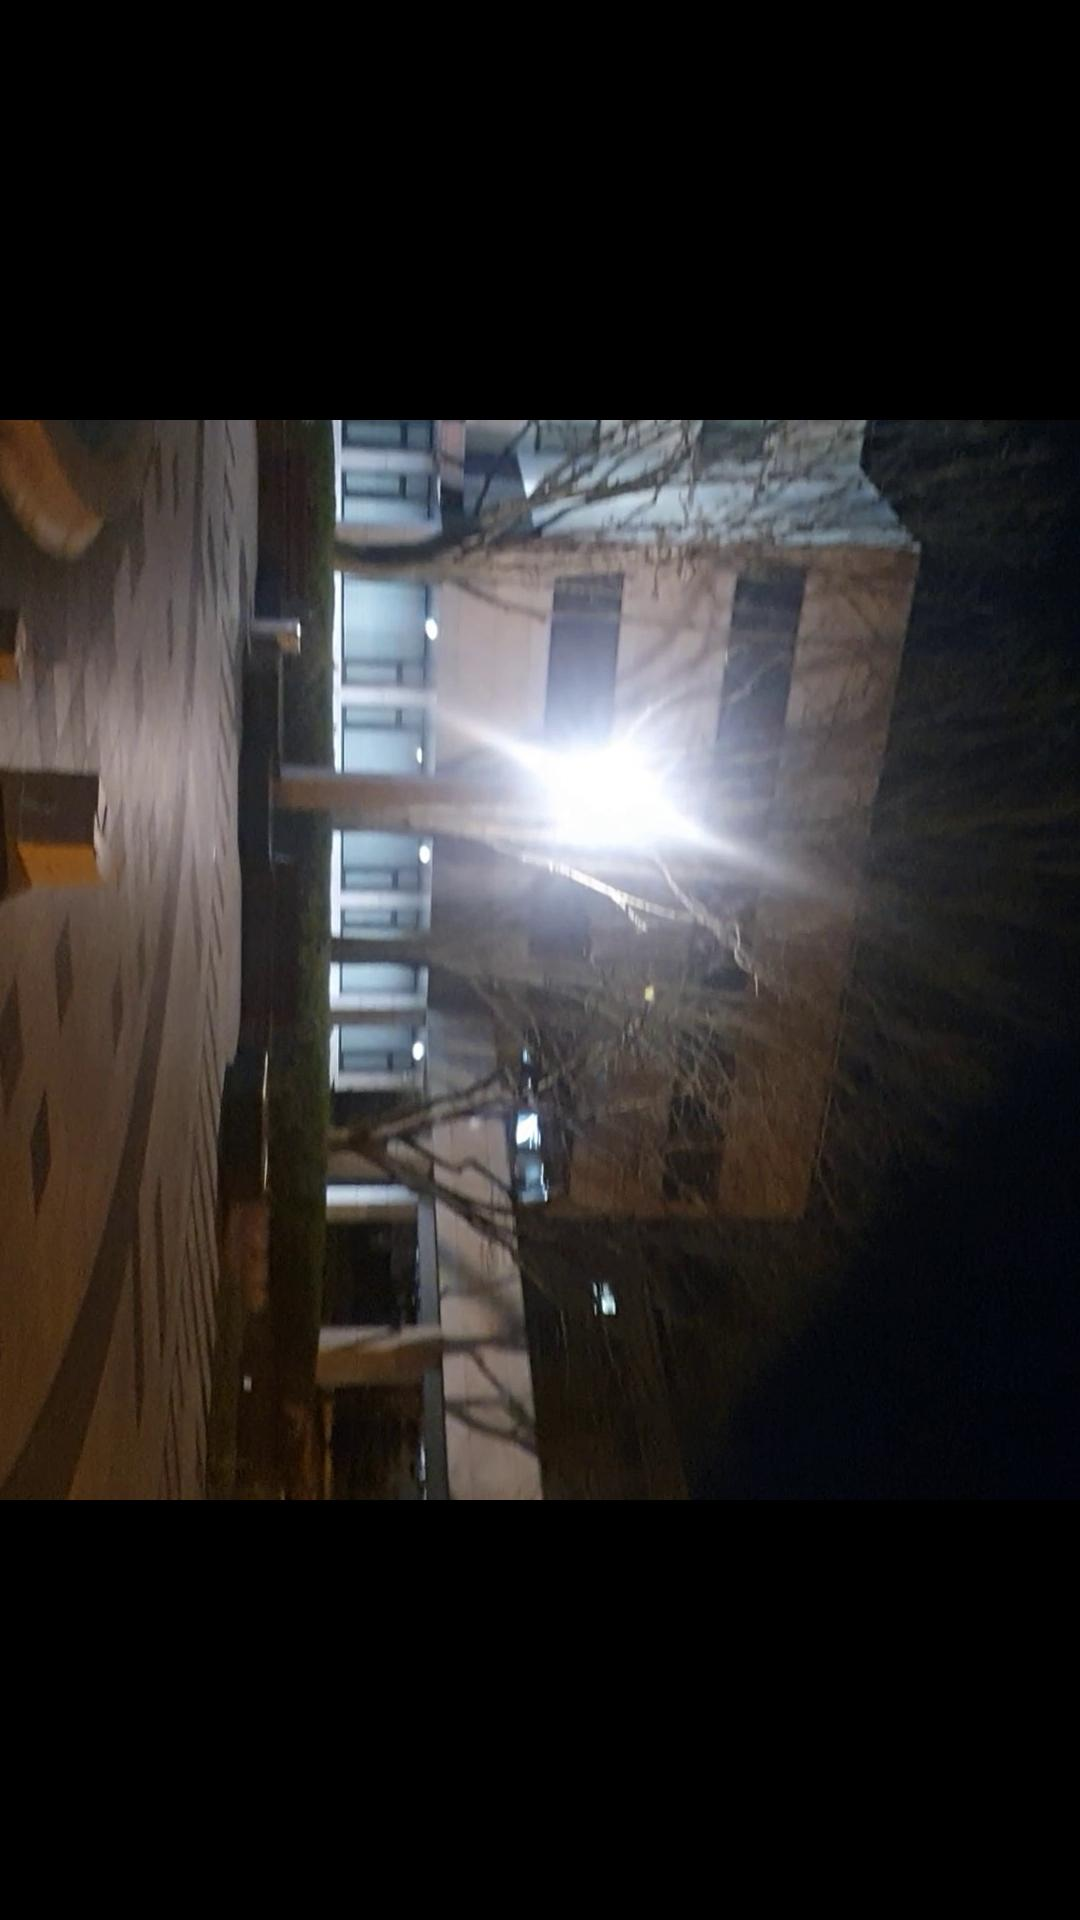Box: (0, 761, 117, 893), (0, 607, 37, 694)
